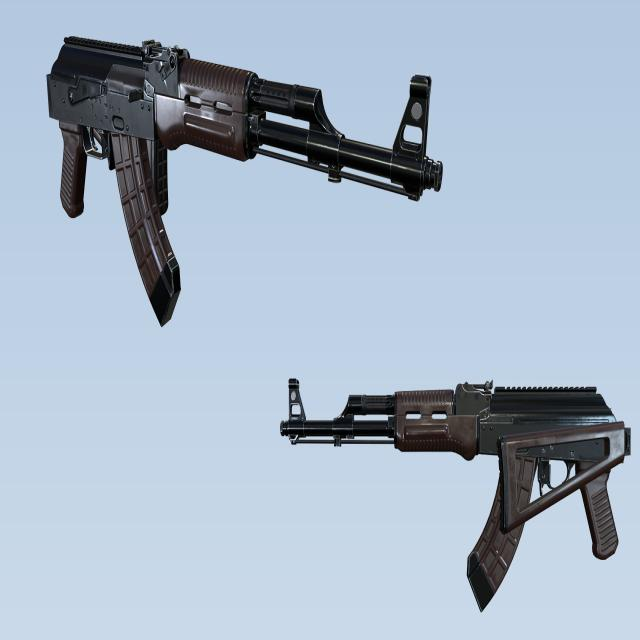Rifle: (47, 38, 444, 327), (279, 379, 633, 612)
